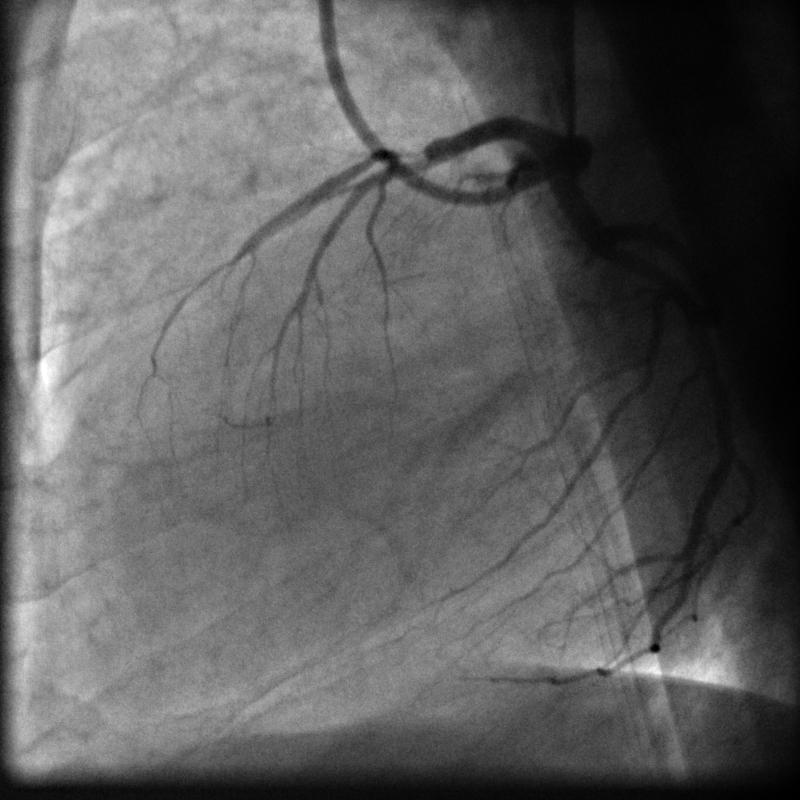Stenosis: (377, 140, 435, 181)
